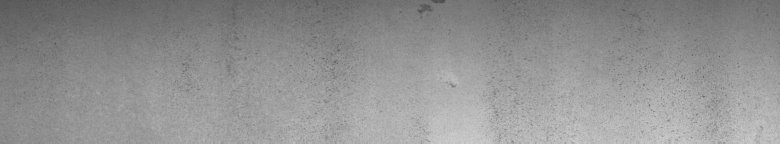ib: (618, 14, 715, 112)
